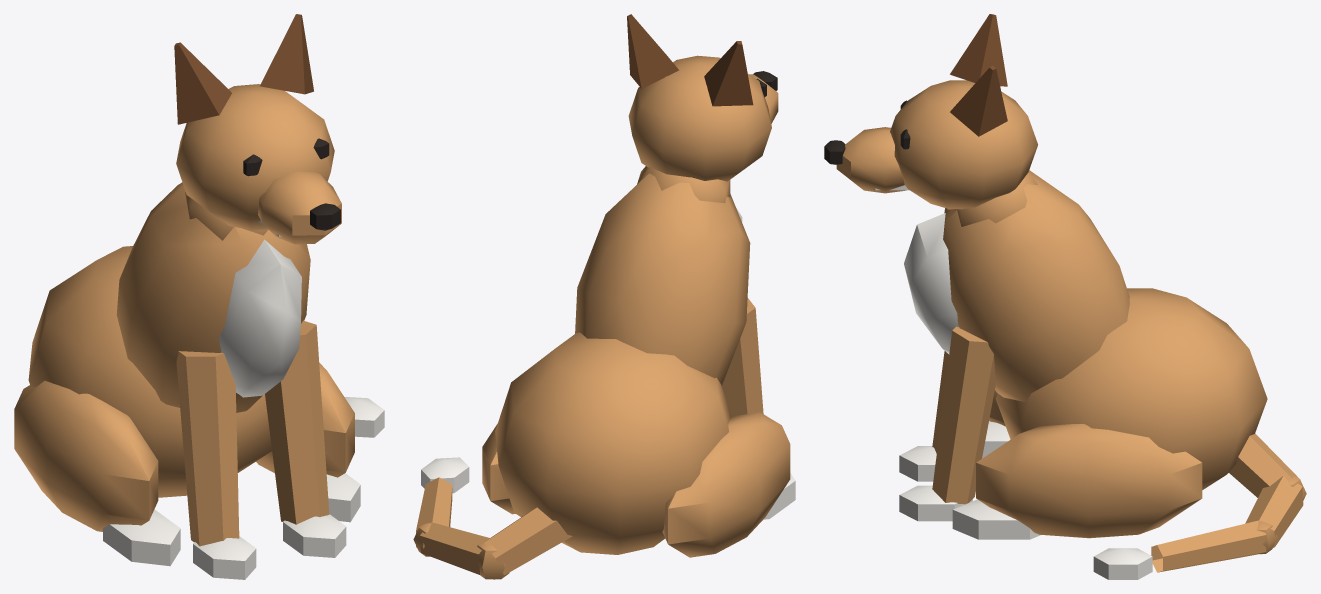
The model's file is dog_sit.glb.
The picture shows the model from 3 angles, left to right: view 1: azimuth 30°, elevation 25°; view 2: azimuth 150°, elevation 25°; view 3: azimuth 270°, elevation 25°; orthographic projection. The views are drawn at different scales.
Visible parts, largest first — view 1: body, head, tail; view 2: body, head, tail; view 3: body, head, tail.
Boxes of the visible parts, box(x1,y1,x2,y2) form: body: box(14, 182, 360, 579); head: box(174, 14, 341, 244); tail: box(344, 397, 384, 437); body: box(482, 166, 795, 557); head: box(627, 14, 778, 181); tail: box(413, 457, 572, 579); body: box(899, 170, 1267, 539); head: box(824, 14, 1037, 209); tail: box(1093, 433, 1306, 579).
Size of the model in its own units: 0.4251 by 0.5977 by 0.5679.
1 material, 1 textured.
